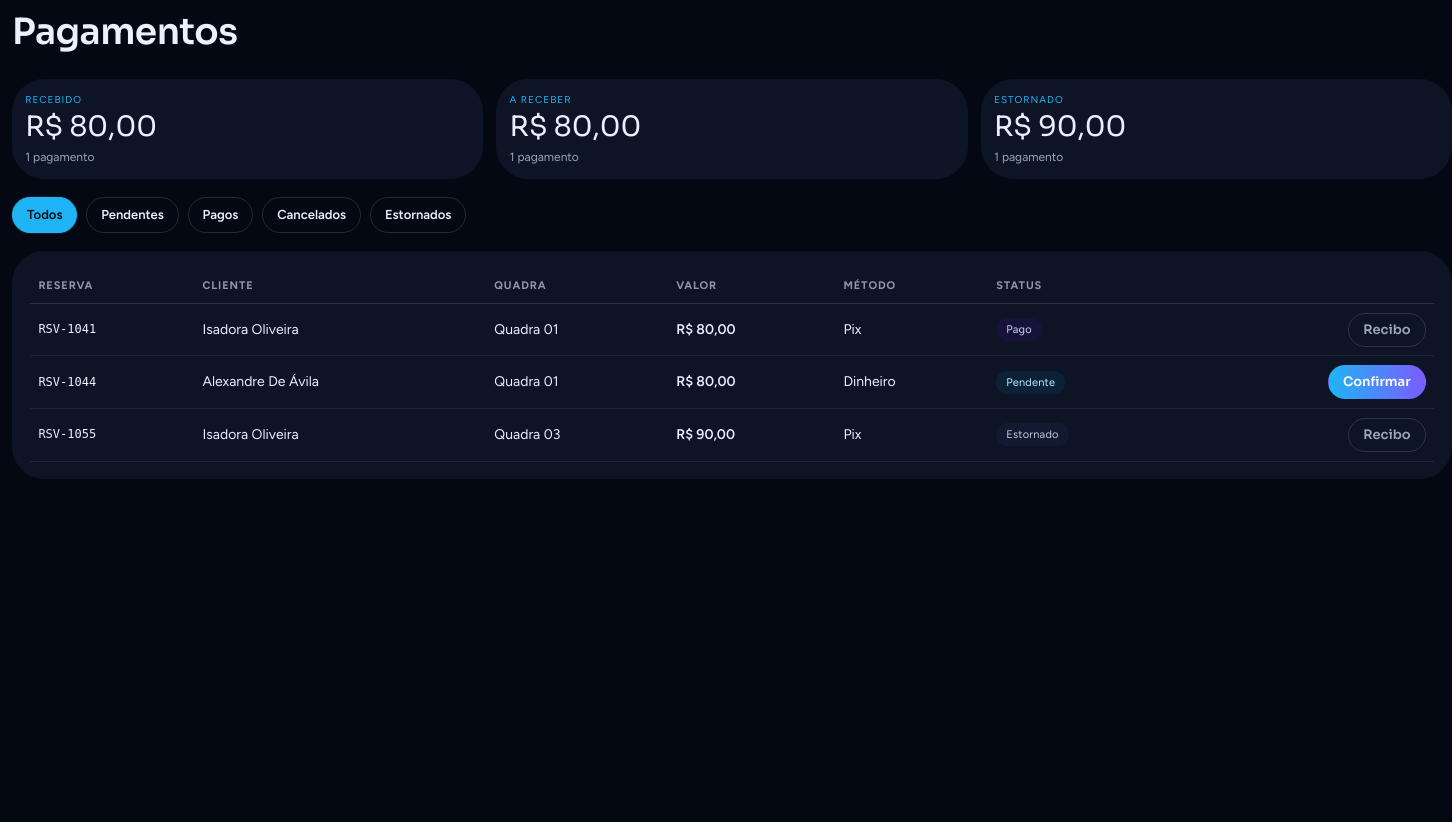
Scenario: PagamentosPage › confirma o recebimento de um pagamento pendente (RF16)
The image size is (1452, 822).
Click the button with aria-label "Confirmar pagamento RSV-1044": x=1377, y=382 x1=1328 y1=365 x2=1426 y2=399
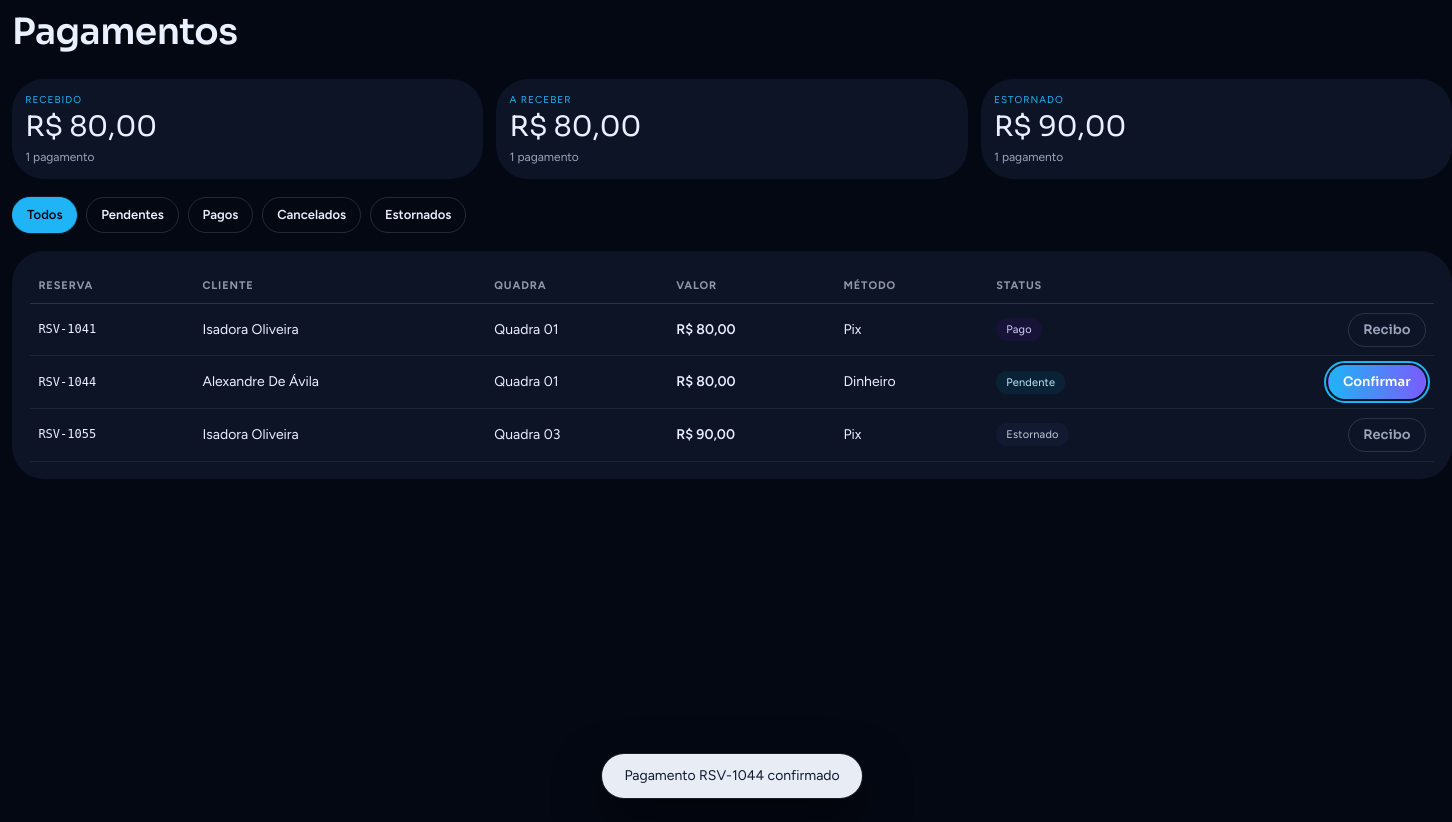
Expected: the text "Pagamento RSV-1044 confirmado" is shown, x1=602 y1=754 x2=862 y2=798
